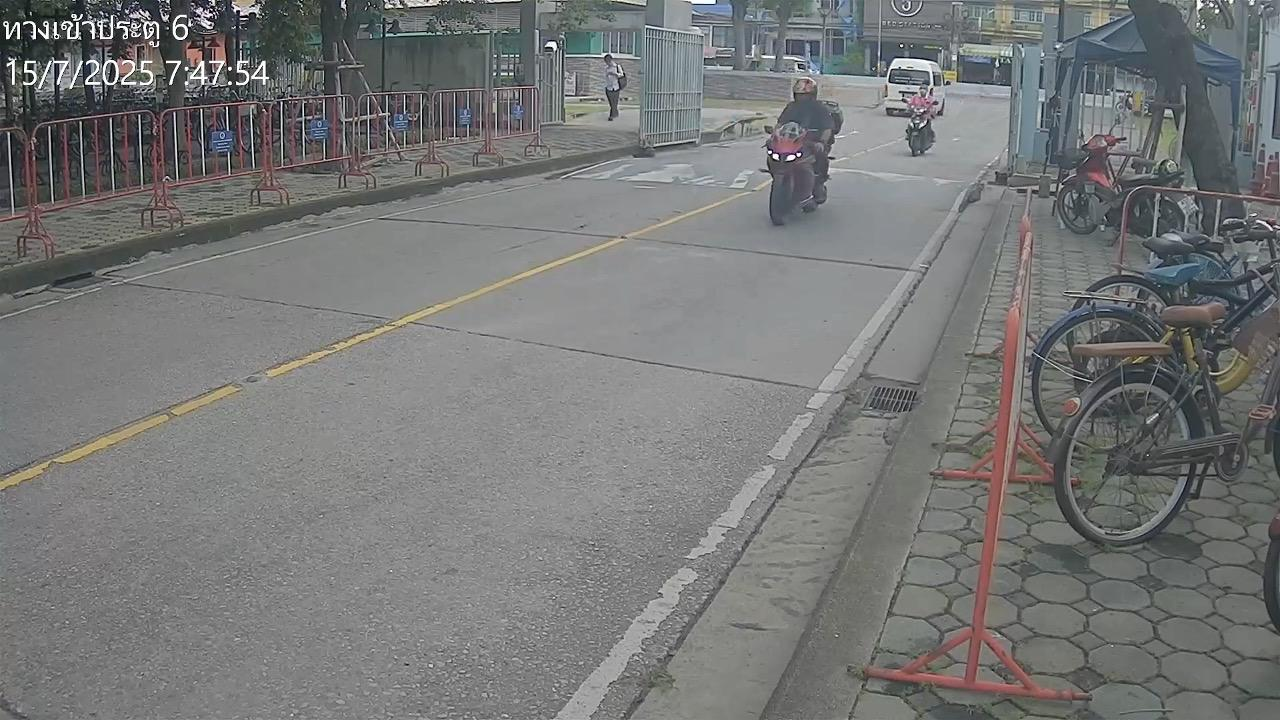With-Helmet: (793, 77, 818, 104)
